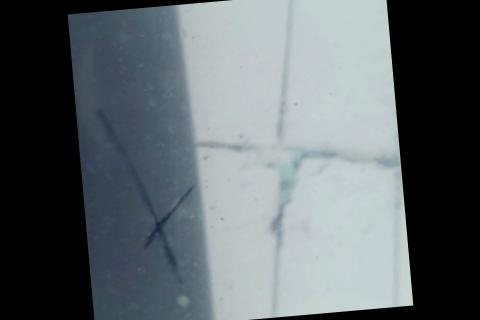keretakan: (91, 99, 201, 292)
